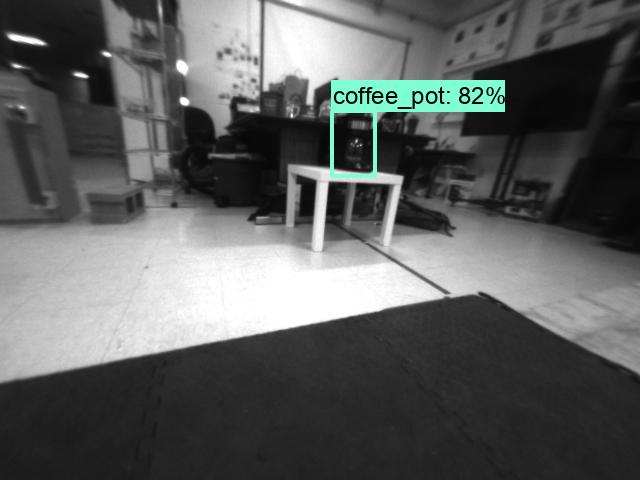coffee_pot: (330, 110, 376, 176)
